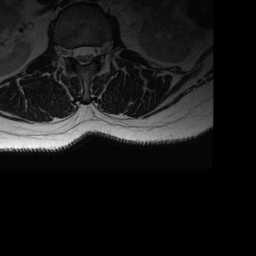CCS_normal: (81, 39, 88, 70)
LFS_normal: (96, 40, 104, 61)
LLS_normal: (88, 40, 96, 65)
RFS_normal: (64, 42, 73, 62)
RLS_normal: (74, 41, 80, 66)
